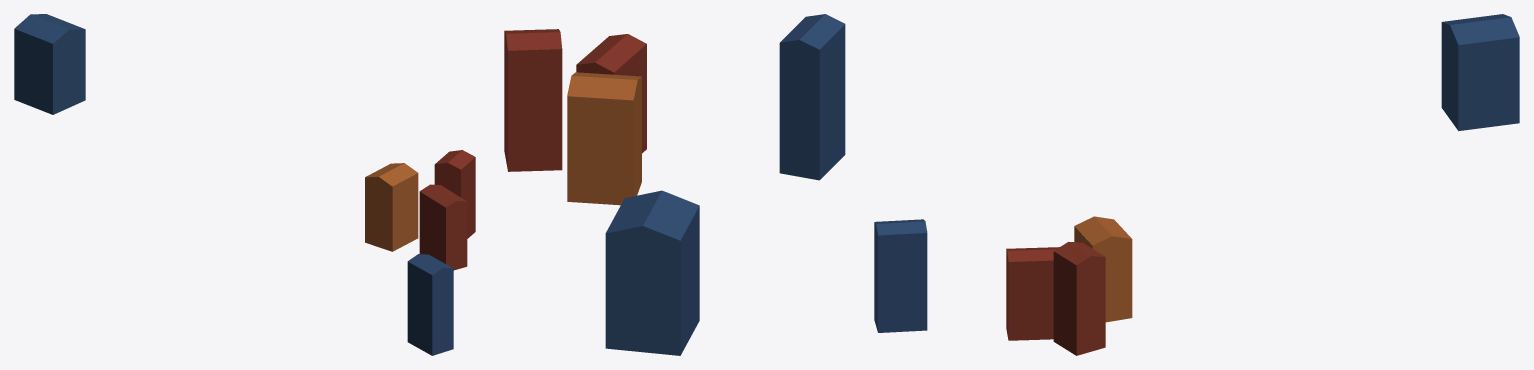
The model's file is near-15-27356-14878.b1559b7e.glb.
3 renders of one model, left to right at view 1: azimuth 30°, elevation 25°; view 2: azimuth 150°, elevation 25°; view 3: azimuth 270°, elevation 25°, orthographic. The views are drawn at different scales.
Size of the model in its own units: 74.68 by 45.69 by 121.
